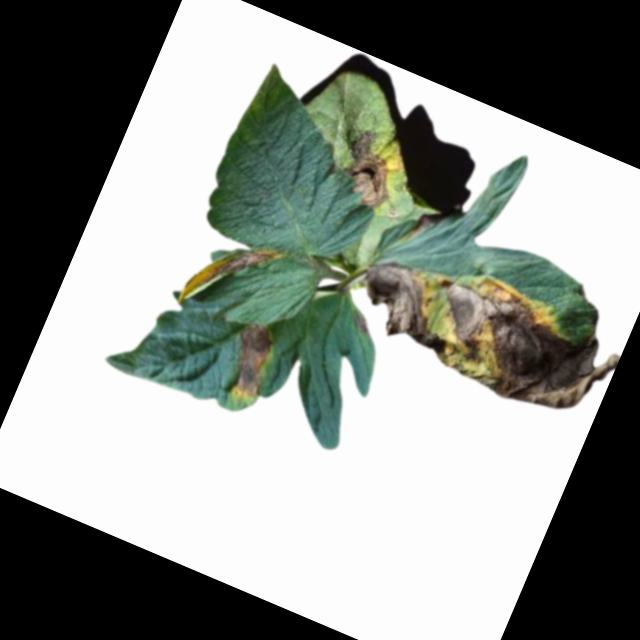Early_blight: (340, 230, 628, 434), (178, 224, 282, 330), (322, 124, 409, 215), (216, 316, 287, 404), (407, 213, 431, 242)
